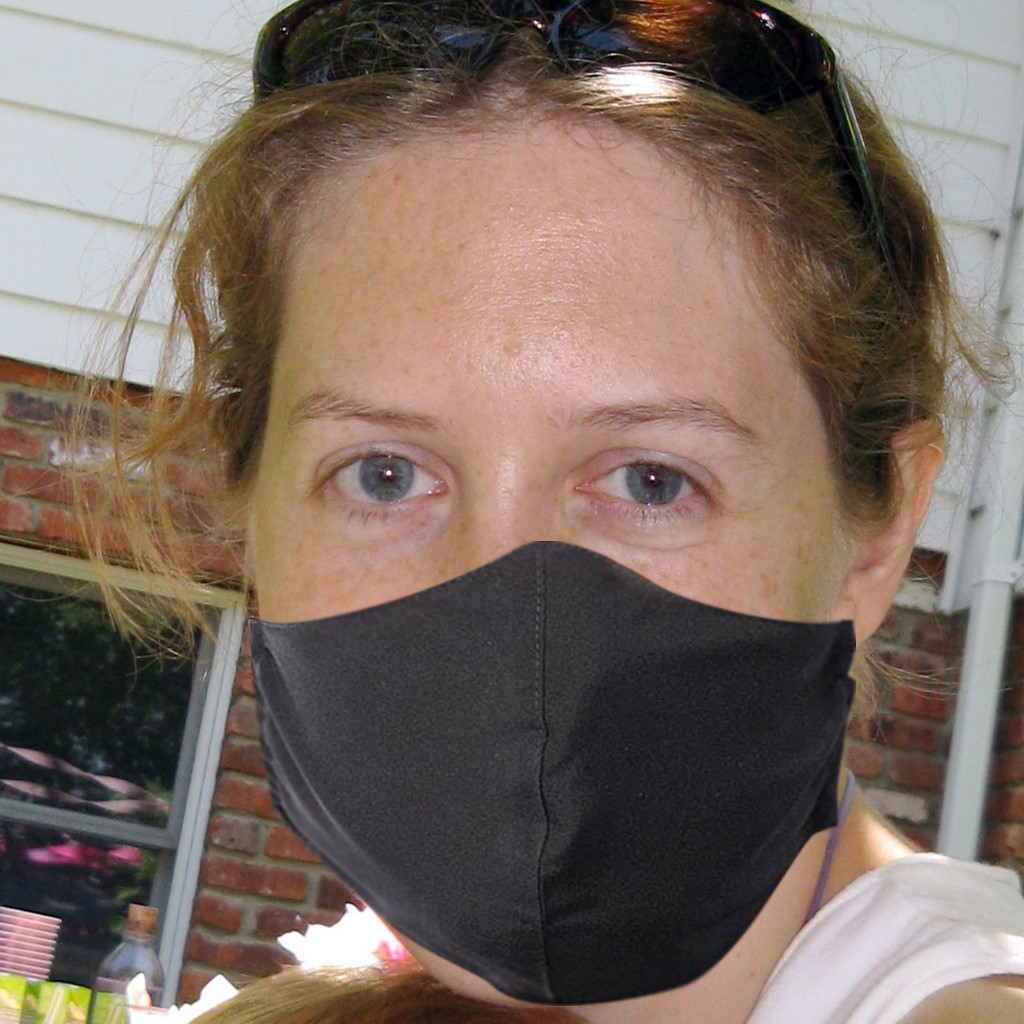con_mascara: (200, 56, 965, 1005)
